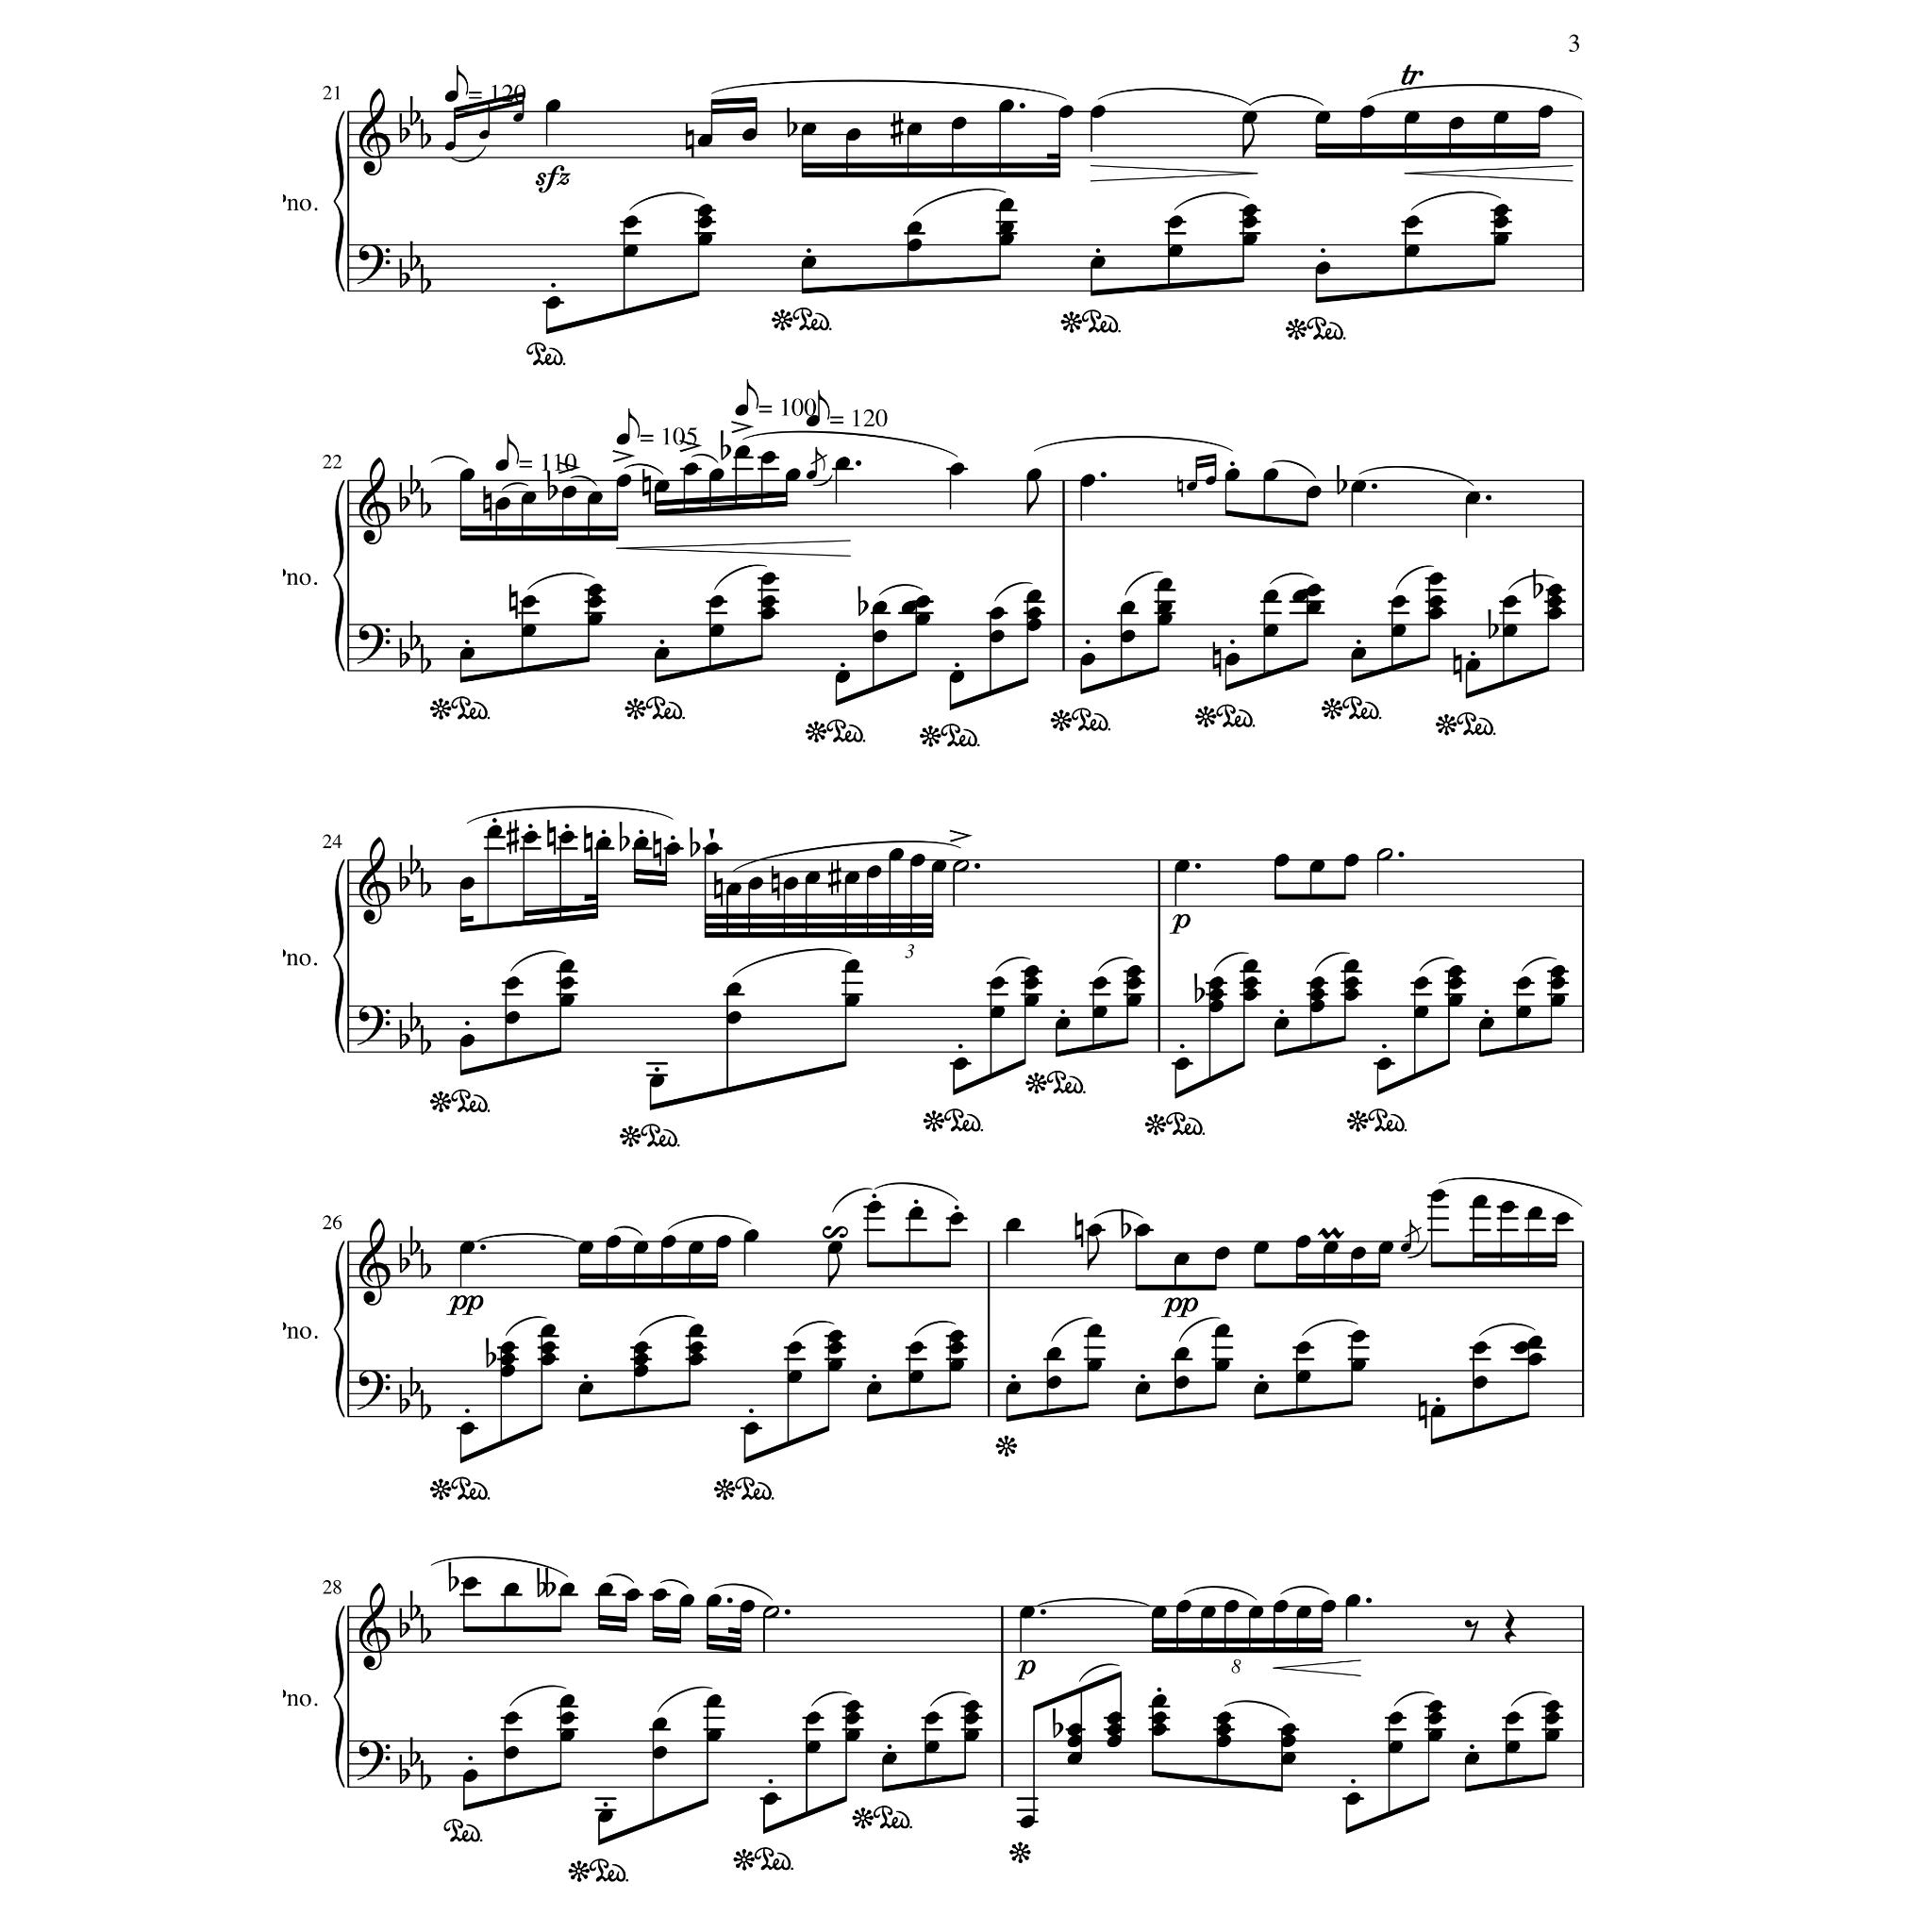brace: (333, 860, 345, 1054), (333, 479, 345, 672), (333, 111, 345, 294), (333, 1606, 345, 1789), (333, 1240, 345, 1417)
fClef: (357, 244, 391, 285), (357, 625, 391, 665), (357, 1005, 391, 1046), (357, 1369, 391, 1410), (357, 1739, 391, 1780)
flag8thDown: (1242, 124, 1254, 157), (1026, 481, 1039, 515), (828, 1254, 840, 1288), (1088, 1237, 1099, 1270)
flag8thUp: (1405, 1212, 1422, 1244), (810, 441, 828, 471)
gClef: (359, 88, 391, 177), (359, 456, 391, 545), (359, 837, 391, 925), (359, 1582, 391, 1670), (359, 1219, 391, 1306)
noteheadBlack: (759, 594, 777, 609), (1553, 1212, 1571, 1226), (1426, 1711, 1444, 1725), (502, 1711, 520, 1725), (502, 1746, 520, 1760), (502, 1582, 520, 1596), (844, 1711, 862, 1725), (1242, 203, 1258, 218), (1315, 262, 1330, 276), (1166, 244, 1182, 258), (1090, 255, 1106, 269), (1449, 117, 1465, 131), (1403, 244, 1419, 258), (1493, 203, 1509, 218), (545, 295, 561, 310), (697, 203, 713, 218), (623, 244, 639, 258), (906, 221, 922, 235), (906, 122, 922, 136), (950, 117, 966, 131), (998, 221, 1014, 235), (741, 127, 757, 142), (800, 122, 816, 136), (800, 255, 816, 269), (1224, 467, 1240, 481), (1306, 485, 1322, 499), (1350, 479, 1366, 494), (1306, 584, 1322, 598), (1292, 589, 1307, 603), (1263, 589, 1279, 603), (1263, 625, 1279, 639), (1263, 467, 1279, 481), (1079, 474, 1095, 488), (1026, 589, 1042, 603), (1157, 612, 1173, 626), (1120, 630, 1136, 644), (1391, 625, 1407, 639), (1428, 594, 1444, 609), (1391, 594, 1407, 609), (1546, 584, 1562, 598), (1546, 594, 1562, 609), (1502, 594, 1518, 609), (1502, 625, 1518, 639), (1465, 658, 1481, 672), (587, 612, 603, 626), (616, 474, 632, 488), (587, 584, 603, 598), (587, 594, 603, 609), (561, 485, 577, 499), (708, 625, 724, 639), (708, 467, 724, 481), (1026, 617, 1042, 632), (653, 479, 669, 494), (458, 467, 474, 481), (520, 594, 536, 609), (520, 625, 536, 639), (870, 630, 886, 644), (835, 456, 851, 471), (1026, 467, 1042, 481), (989, 630, 1005, 644), (915, 594, 931, 609), (915, 612, 931, 626), (734, 444, 750, 458), (708, 594, 724, 609), (784, 467, 800, 481), (1208, 1000, 1224, 1014), (1309, 1000, 1325, 1014), (1242, 959, 1258, 973), (1023, 993, 1039, 1007), (1023, 964, 1039, 978), (989, 1005, 1005, 1019), (1125, 964, 1141, 978), (1125, 993, 1141, 1007), (1092, 1005, 1108, 1019), (1550, 964, 1566, 978), (1550, 993, 1566, 1007), (1516, 1005, 1532, 1019), (1343, 959, 1359, 973), (1447, 964, 1463, 978), (1447, 993, 1463, 1007), (1414, 1005, 1430, 1019), (596, 837, 612, 851), (559, 959, 575, 973), (559, 993, 575, 1007), (665, 842, 681, 856), (649, 1074, 665, 1088), (633, 837, 649, 851), (458, 1033, 474, 1047), (458, 878, 474, 892), (504, 1010, 520, 1024), (865, 865, 881, 879), (888, 847, 904, 862), (844, 959, 860, 973), (844, 993, 860, 1007), (805, 870, 821, 885), (844, 870, 860, 885), (725, 1010, 741, 1024), (725, 982, 741, 996), (725, 883, 741, 897), (704, 842, 720, 856), (782, 878, 798, 892), (748, 878, 764, 892), (1295, 1341, 1311, 1355), (1214, 1323, 1230, 1338), (1214, 1246, 1230, 1260), (1350, 1329, 1366, 1343), (1350, 1246, 1366, 1260), (1295, 1369, 1311, 1384), (1086, 1323, 1102, 1338), (1046, 1346, 1062, 1361), (1046, 1375, 1062, 1389), (1173, 1346, 1189, 1361), (1173, 1375, 1189, 1389), (1173, 1253, 1189, 1267), (1513, 1341, 1529, 1355), (1472, 1341, 1488, 1355), (1472, 1375, 1488, 1389), (633, 1341, 649, 1355), (688, 1341, 704, 1355), (688, 1323, 704, 1338), (540, 1323, 556, 1338), (540, 1341, 556, 1355), (499, 1341, 515, 1355), (948, 1329, 964, 1343), (948, 1341, 964, 1355), (948, 1212, 964, 1226), (908, 1341, 924, 1355), (908, 1369, 924, 1384), (1005, 1217, 1021, 1231), (826, 1341, 842, 1355), (786, 1341, 801, 1355), (786, 1369, 801, 1384), (826, 1329, 842, 1343), (1272, 1599, 1288, 1614), (1223, 1599, 1238, 1614), (1215, 1711, 1231, 1725), (1345, 1792, 1361, 1806), (1345, 1594, 1361, 1608), (1320, 1599, 1336, 1614), (1281, 1752, 1297, 1766), (1106, 1711, 1122, 1725), (1067, 1752, 1083, 1766), (1177, 1599, 1192, 1614), (1150, 1711, 1166, 1725), (1463, 1752, 1479, 1766), (1387, 1711, 1403, 1725), (1504, 1711, 1520, 1725), (1545, 1711, 1560, 1725), (596, 1582, 612, 1596), (559, 1711, 575, 1725), (559, 1582, 575, 1596), (651, 1716, 667, 1730), (651, 1746, 667, 1760), (706, 1594, 722, 1608), (805, 1711, 821, 1725), (1019, 1815, 1035, 1829), (964, 1711, 980, 1725), (924, 1711, 939, 1725), (881, 1752, 897, 1766), (740, 1599, 755, 1614), (763, 1792, 778, 1806), (759, 573, 777, 586), (759, 607, 777, 619), (759, 451, 777, 464), (1426, 1700, 1444, 1713), (1426, 1729, 1444, 1741), (844, 1700, 862, 1713), (844, 1729, 862, 1741), (846, 127, 860, 142), (679, 1594, 694, 1608), (1315, 111, 1330, 124), (1242, 216, 1258, 228), (1242, 234, 1258, 246), (1242, 111, 1258, 124), (1403, 111, 1419, 124), (1359, 106, 1375, 119), (1058, 106, 1074, 119), (1090, 106, 1106, 119), (1166, 216, 1182, 228), (1493, 111, 1509, 124), (1403, 216, 1419, 228), (1537, 106, 1553, 119), (1493, 216, 1509, 228), (1493, 234, 1509, 246), (545, 99, 561, 111), (697, 216, 713, 228), (697, 234, 713, 246), (998, 198, 1014, 211), (623, 216, 639, 228), (697, 134, 713, 147), (906, 239, 922, 251), (998, 234, 1014, 246), (998, 99, 1014, 111), (1224, 653, 1240, 665), (1350, 648, 1366, 660), (1026, 607, 1042, 619), (1306, 602, 1322, 614), (1079, 653, 1095, 665), (1157, 579, 1173, 591), (1157, 602, 1173, 614), (1120, 602, 1136, 614), (1428, 573, 1444, 586), (1428, 607, 1444, 619), (1465, 492, 1481, 504), (1546, 607, 1562, 619), (587, 492, 603, 504), (683, 464, 699, 476), (653, 648, 669, 660), (458, 648, 474, 660), (520, 492, 536, 504), (495, 497, 511, 510), (870, 602, 886, 614), (835, 671, 851, 683), (989, 607, 1005, 619), (948, 671, 964, 683), (948, 464, 964, 476), (901, 602, 916, 614), (1208, 977, 1224, 989), (1208, 989, 1224, 1001), (1309, 977, 1325, 989), (1309, 989, 1325, 1001), (1309, 860, 1325, 872), (1274, 1017, 1290, 1030), (1274, 855, 1290, 867), (1242, 977, 1258, 989), (1242, 989, 1258, 1001), (1054, 1017, 1070, 1030), (1023, 977, 1039, 989), (989, 977, 1005, 989), (1175, 1058, 1191, 1070), (1175, 860, 1191, 872), (1125, 977, 1141, 989), (1092, 977, 1108, 989), (1550, 977, 1566, 989), (1516, 977, 1532, 989), (1376, 1058, 1392, 1070), (1343, 977, 1359, 989), (1343, 989, 1359, 1001), (1343, 855, 1359, 867), (1447, 977, 1463, 989), (1479, 1017, 1495, 1030), (1414, 977, 1430, 989), (559, 977, 575, 989), (559, 832, 575, 844), (522, 832, 538, 844), (504, 977, 520, 989), (487, 826, 502, 839), (952, 1058, 968, 1070), (931, 860, 947, 872), (909, 855, 925, 867), (1253, 1242, 1269, 1254), (1253, 1382, 1269, 1394), (1295, 1235, 1311, 1247), (1214, 1359, 1230, 1371), (1350, 1359, 1366, 1371), (1323, 1242, 1339, 1254), (1086, 1359, 1102, 1371), (1086, 1224, 1102, 1237), (1134, 1382, 1150, 1394), (1134, 1224, 1150, 1237), (1430, 1405, 1445, 1417), (1430, 1189, 1445, 1201), (1378, 1242, 1394, 1254), (1527, 1336, 1543, 1348), (1527, 1353, 1543, 1366), (1527, 1207, 1543, 1219), (1500, 1201, 1516, 1214), (1472, 1194, 1488, 1207), (633, 1353, 649, 1366), (633, 1364, 649, 1376), (633, 1242, 649, 1254), (605, 1235, 621, 1247), (579, 1382, 594, 1394), (579, 1242, 594, 1254), (715, 1235, 731, 1247), (688, 1353, 704, 1366), (688, 1242, 704, 1254), (660, 1235, 676, 1247), (458, 1242, 474, 1254), (458, 1422, 474, 1435), (499, 1364, 515, 1376), (540, 1353, 556, 1366), (499, 1353, 515, 1366), (948, 1359, 964, 1371), (908, 1207, 924, 1219), (1005, 1382, 1021, 1394), (826, 1359, 842, 1371), (826, 1242, 842, 1254), (743, 1422, 759, 1435), (743, 1230, 759, 1242), (867, 1201, 883, 1214), (867, 1382, 883, 1394), (1247, 1606, 1263, 1619), (1215, 1723, 1231, 1736), (1215, 1736, 1231, 1748), (1295, 1606, 1311, 1619), (1281, 1723, 1297, 1736), (1281, 1736, 1297, 1748), (1067, 1736, 1083, 1748), (1106, 1723, 1122, 1736), (1106, 1736, 1122, 1748), (1067, 1723, 1083, 1736), (1201, 1606, 1217, 1619), (1150, 1695, 1166, 1707), (1150, 1723, 1166, 1736), (1150, 1606, 1166, 1619), (1387, 1741, 1403, 1753), (1545, 1700, 1560, 1713), (1545, 1729, 1560, 1741), (1504, 1741, 1520, 1753), (596, 1810, 612, 1822), (559, 1695, 575, 1707), (559, 1729, 575, 1741), (651, 1589, 667, 1601), (625, 1589, 640, 1601), (462, 1576, 478, 1589), (462, 1769, 478, 1782), (805, 1741, 821, 1753), (1019, 1606, 1035, 1619), (964, 1729, 980, 1741), (924, 1741, 939, 1753), (964, 1700, 980, 1713), (706, 1695, 722, 1707), (706, 1729, 722, 1741), (478, 129, 490, 140), (444, 142, 456, 152), (1185, 481, 1198, 492), (805, 471, 817, 481), (1399, 1242, 1412, 1253), (513, 113, 524, 124), (1205, 476, 1215, 487)
noteheadHalf: (1376, 847, 1394, 862), (952, 860, 970, 872), (763, 1606, 778, 1619)
rest8th: (1465, 1621, 1479, 1642)
restQuarter: (1504, 1608, 1516, 1644)
